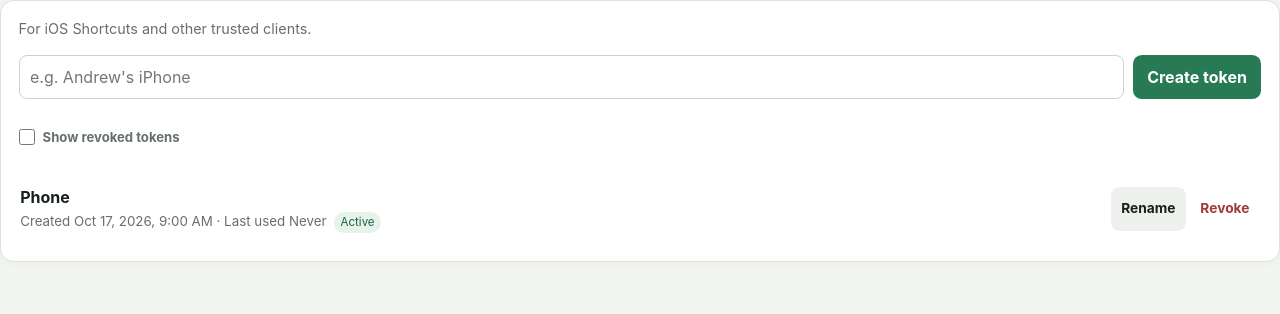
saves the trimmed display name inline
Click the button with aria-label "Rename Phone" at (1148, 209), box [1111,187,1186,231]
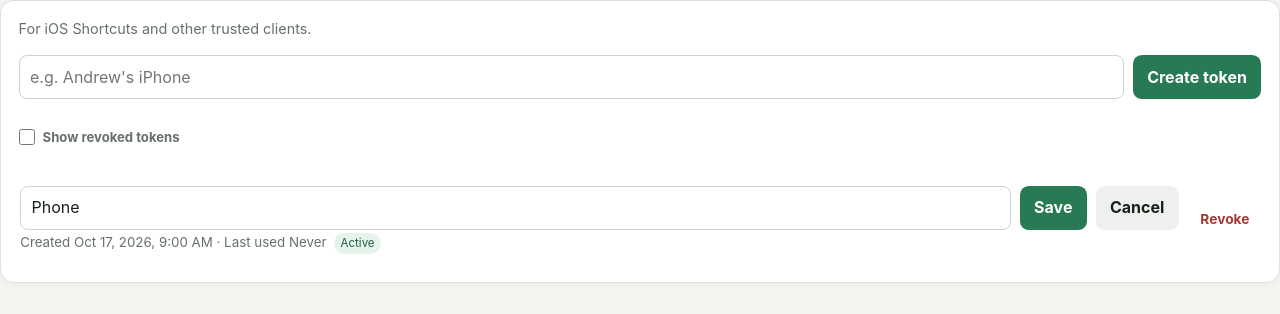
Now the field named "New token name" holds "Phone"
Replace the text in the field named "New token name" with "  Work phone  " at (516, 208), box [20,186,1011,230]
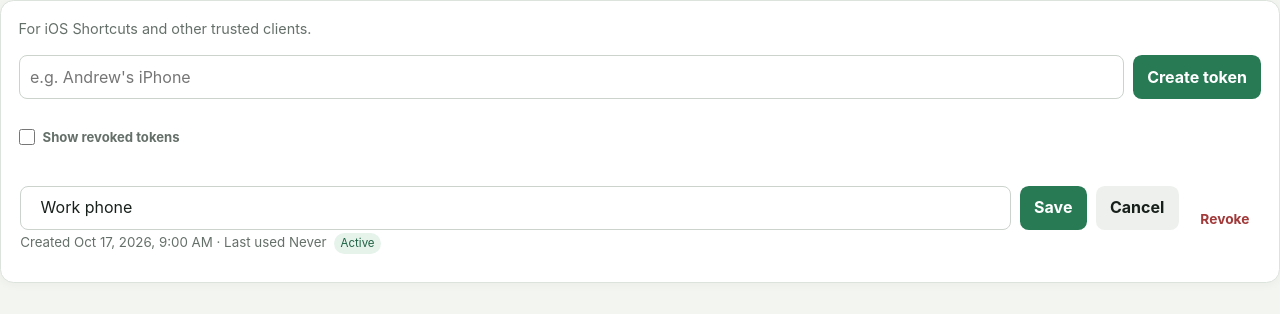
Submit the form named "New token name", box [20,186,1179,230]
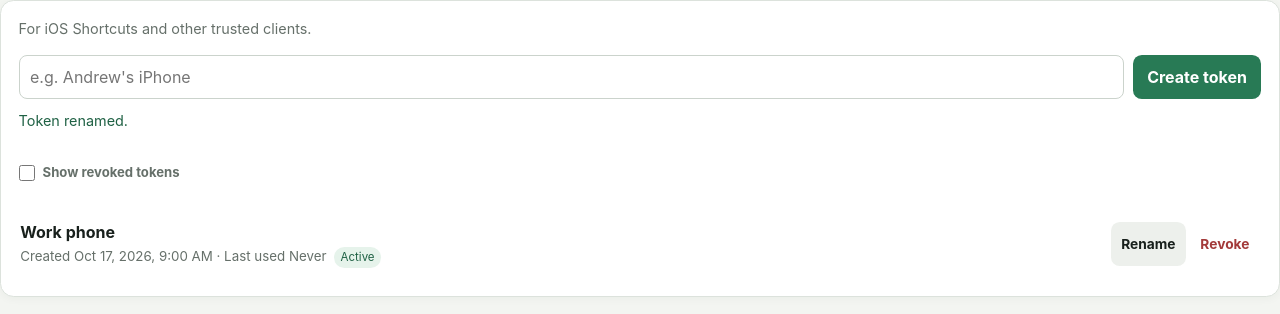
Expected: the text "Active" is shown, [334,247,381,268]
Now the button with aria-label "Rename Work phone" is shown, box [1111,222,1186,266]
Now the message reads "Token renamed.", box [19,112,128,129]
